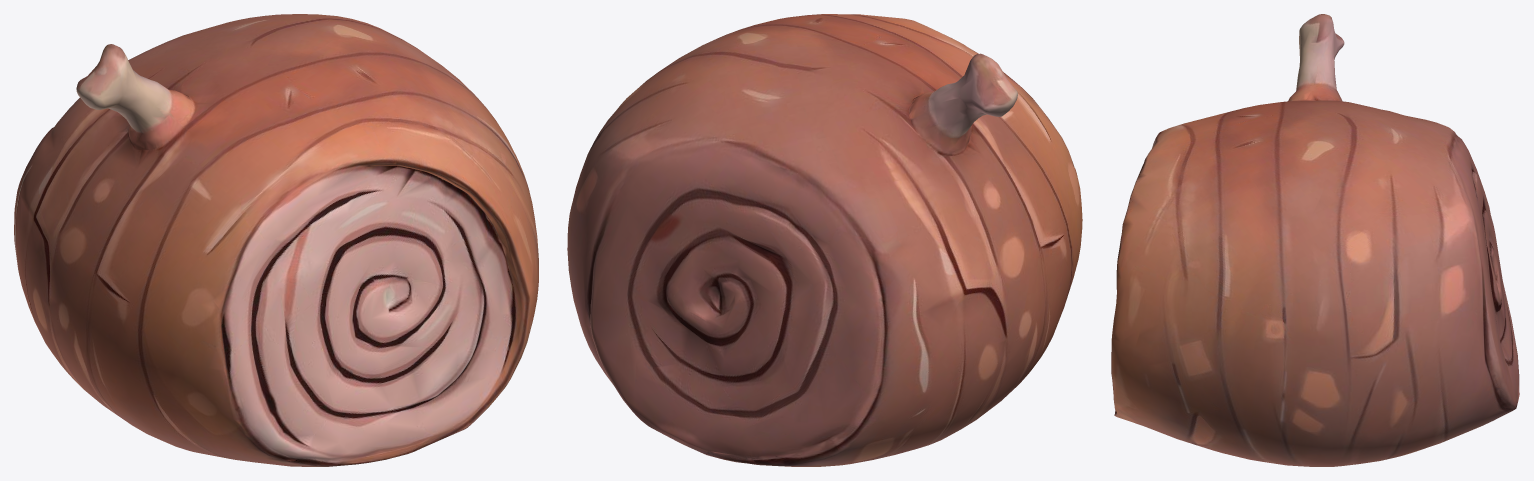
File: ham.glb
3 views of the same model, side by side, from view 1: azimuth 30°, elevation 25°; view 2: azimuth 150°, elevation 25°; view 3: azimuth 270°, elevation 25° (orthographic). The views are drawn at different scales.
Visible parts, largest first — view 1: Mesh_0; view 2: Mesh_0; view 3: Mesh_0.
Boxes of the visible parts, x1,y1,x2,y2 form: Mesh_0: (14, 14, 538, 466); Mesh_0: (567, 14, 1082, 466); Mesh_0: (1111, 14, 1519, 466).
Size of the model in its own units: 2 by 1.74 by 1.9.
1 material, 1 textured.
